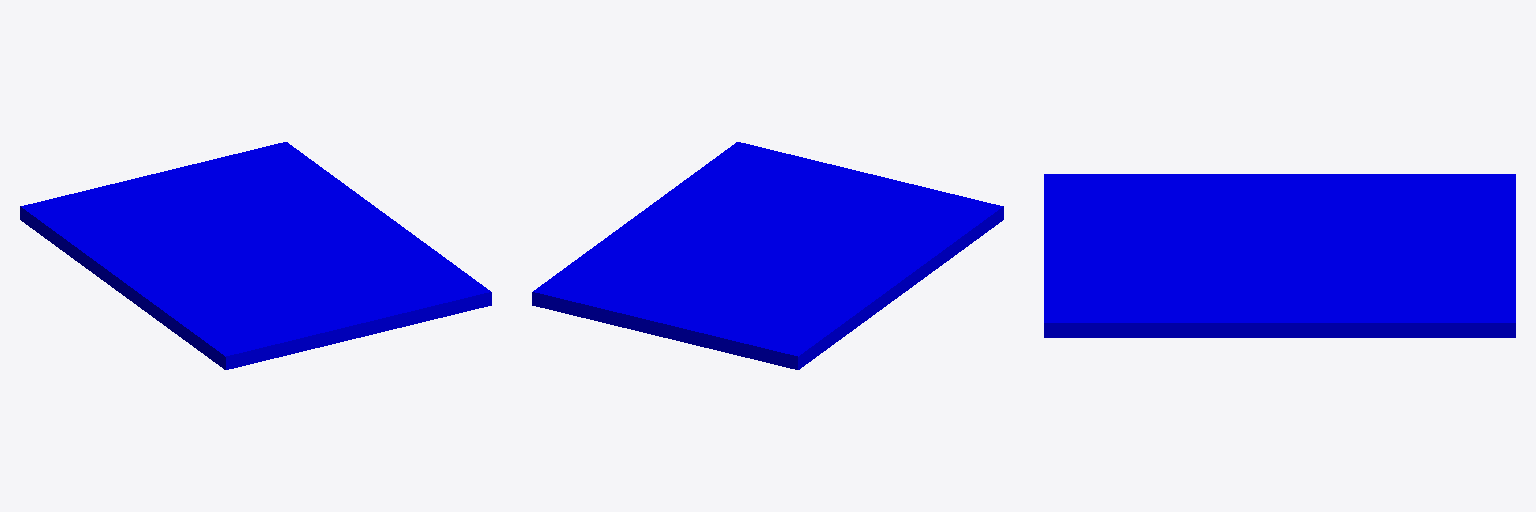
robot.urdf — blue_cube:
<?xml version="1.0" ?>
<robot name="blue_cube">
  <link name="base_link">
    <inertial>
      <origin rpy="0.0 0.0 0.0" xyz="0.0 0.0 0.0"/>
      <mass value="0.1"/>
      <inertia ixx="4.166666666666668e-05" ixy="0.0" ixz="0.0" iyy="4.166666666666668e-05" iyz="0.0" izz="4.166666666666668e-05"/>
    </inertial>
    <visual>
      <origin rpy="0.0 0.0 0.0" xyz="0.0 0.0 0.0"/>
      <geometry>
        <box size="0.505 0.675 0.025"/>
      </geometry>
      <material name="blue">
        <color rgba="0 0 1 1"/>
      </material>
    </visual>
    <collision>
      <origin rpy="0.0 0.0 0.0" xyz="0.0 0.0 0.0"/>
      <geometry>
        <box size="0.505 0.675 0.015"/>
      </geometry>
    </collision>
  </link>
  <gazebo reference="base_link">
    <material>Gazebo/Blue</material>
  </gazebo>
</robot>

--- What the picture shows (computed from the rendered views, not written in the file) ---
The picture shows the robot from 3 angles, left to right: view 1: azimuth 30°, elevation 25°; view 2: azimuth 150°, elevation 25°; view 3: azimuth 270°, elevation 25°; orthographic projection.
Robot: blue_cube — 1 links, 0 joints (none); root link base_link; default pose: all joints at 0.
Links seen in each view (by area): view 1: base_link; view 2: base_link; view 3: base_link.
Link boxes in pixels (left/top/right/bottom): base_link: left=20, top=142, right=491, bottom=369; base_link: left=532, top=142, right=1003, bottom=369; base_link: left=1044, top=174, right=1515, bottom=337.
Size in the robot's own frame: 0.505 by 0.675 by 0.025 metres.
Geometry: primitives only (box / cylinder / sphere), no mesh files.